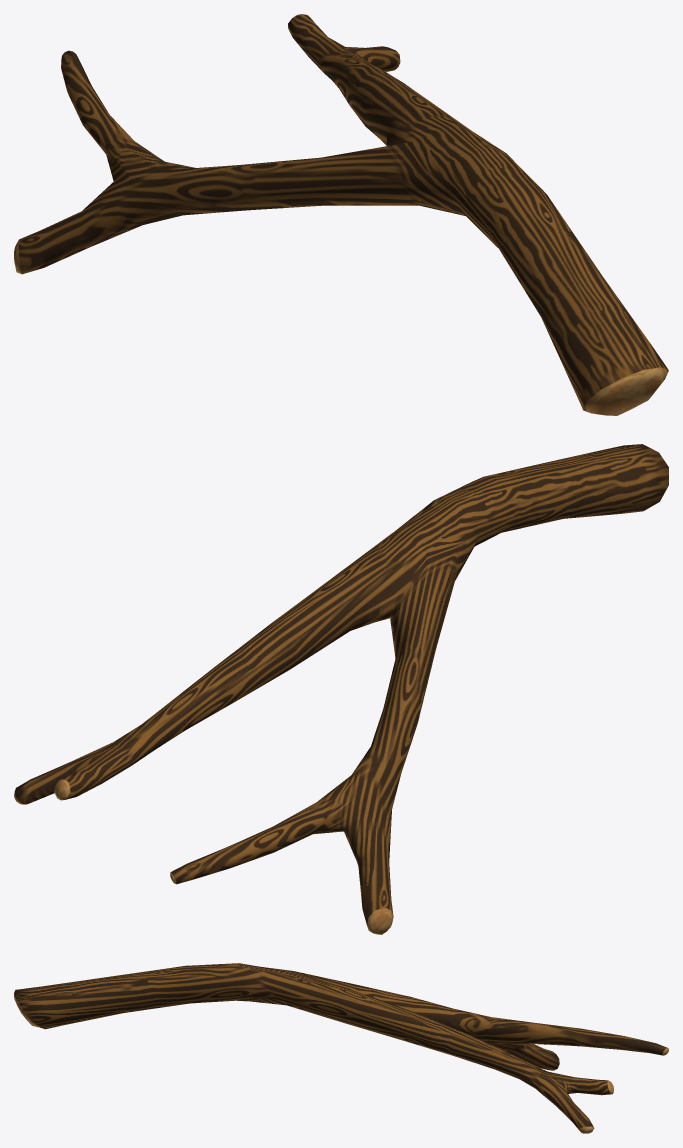
Rendered from branch_textured.FBX.
3 renders of one model, top to bottom at view 1: azimuth 30°, elevation 25°; view 2: azimuth 150°, elevation 25°; view 3: azimuth 270°, elevation 25°, orthographic. The views are drawn at different scales.
Parts seen in each view (by area): view 1: branch01; view 2: branch01; view 3: branch01.
Part boxes in pixels (x1,y1,x2,y2): branch01: [14, 14, 668, 415]; branch01: [14, 444, 668, 934]; branch01: [14, 963, 668, 1133].
Bounding box in the file's own units: 213 × 135 × 506.
